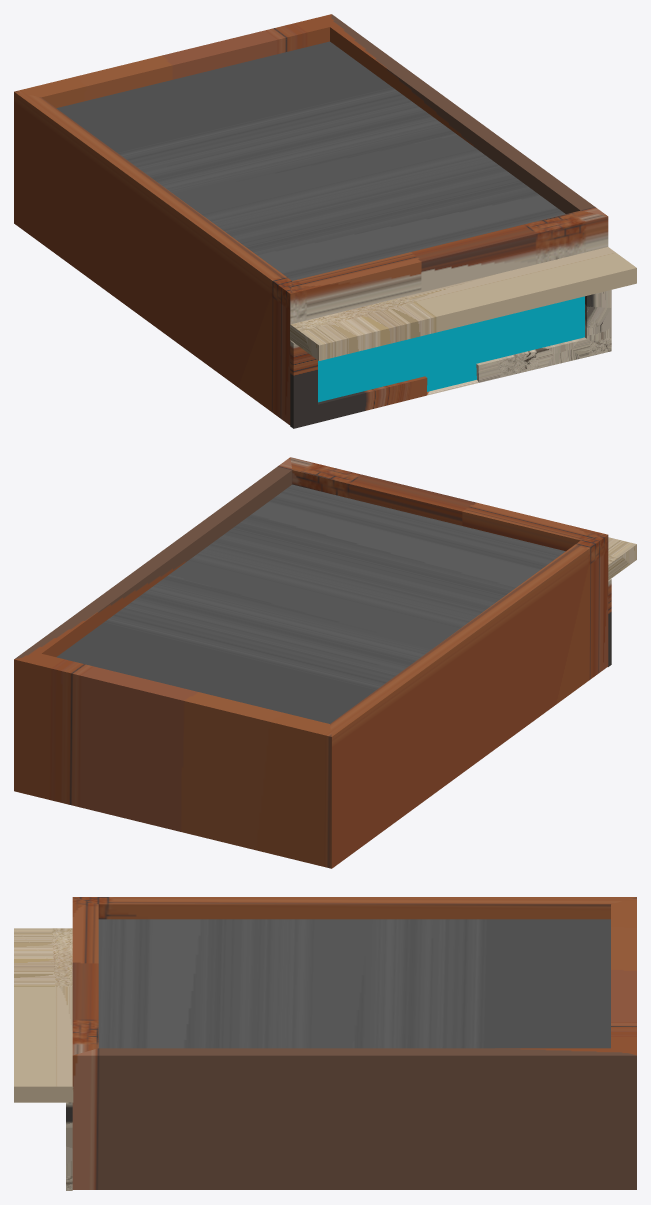
File: DanceStudio.fbx
3 renders of one model, top to bottom at view 1: azimuth 30°, elevation 25°; view 2: azimuth 150°, elevation 25°; view 3: azimuth 270°, elevation 25°, orthographic. The views are drawn at different scales.
Parts seen in each view (by area): view 1: pCube18; view 2: pCube18; view 3: pCube18.
Part boxes in pixels (bbox=[...]): pCube18: bbox=[14, 14, 636, 428]; pCube18: bbox=[14, 457, 636, 868]; pCube18: bbox=[14, 897, 636, 1190].
Bounding box in the file's own units: 11.89 × 4.79 × 19.77.
